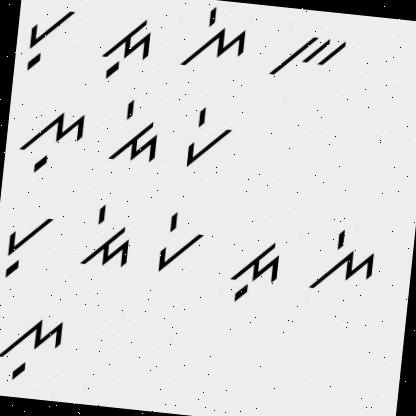de: (76, 198, 134, 274), (107, 93, 164, 168)
du: (218, 230, 292, 307), (95, 12, 155, 86)
ne: (299, 220, 380, 302), (176, 0, 251, 75)
nu: (0, 305, 78, 390), (11, 104, 93, 178)
pe: (178, 99, 239, 173), (154, 207, 210, 280)
pu: (20, 1, 82, 80), (0, 204, 56, 284)
